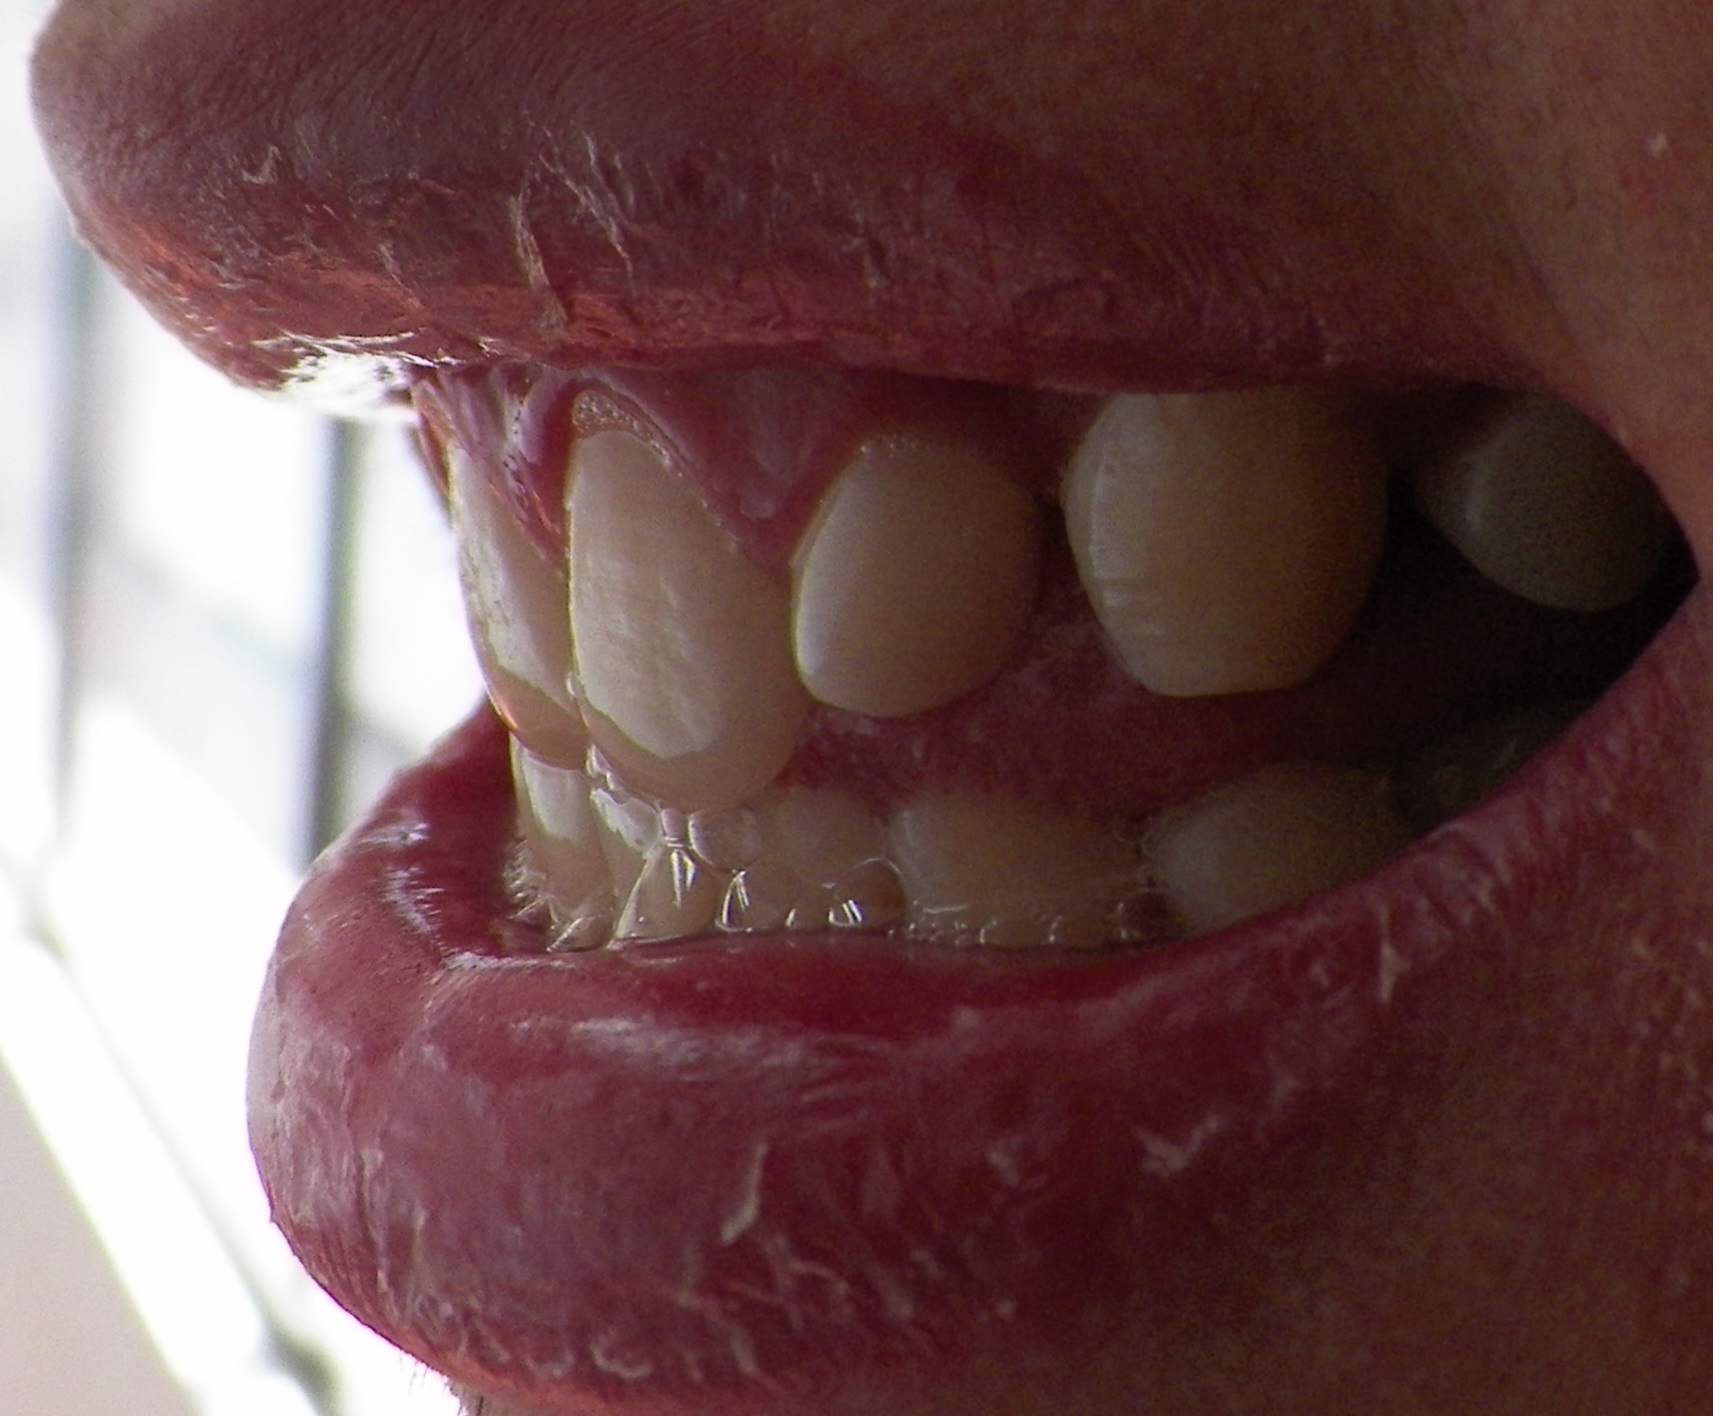boca: (431, 392, 1684, 952)
